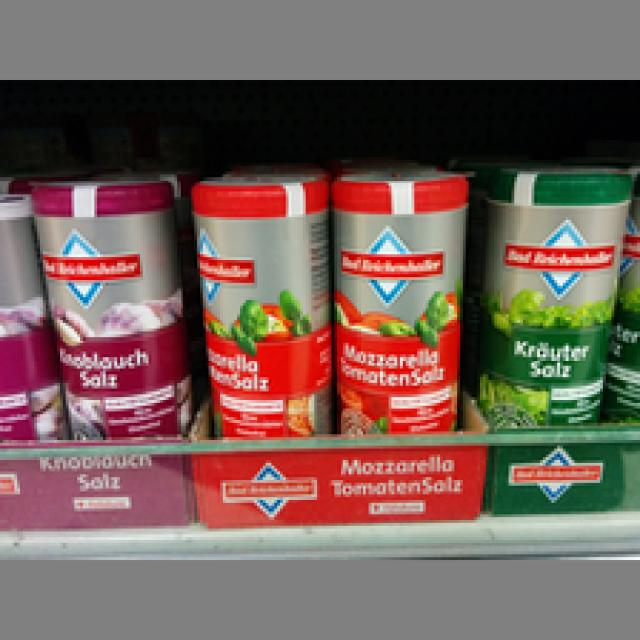groceries: (32, 172, 192, 437), (477, 163, 632, 426), (188, 172, 328, 437), (328, 166, 466, 434)
